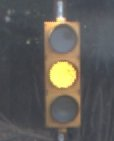Yellow: (33, 12, 96, 133)
